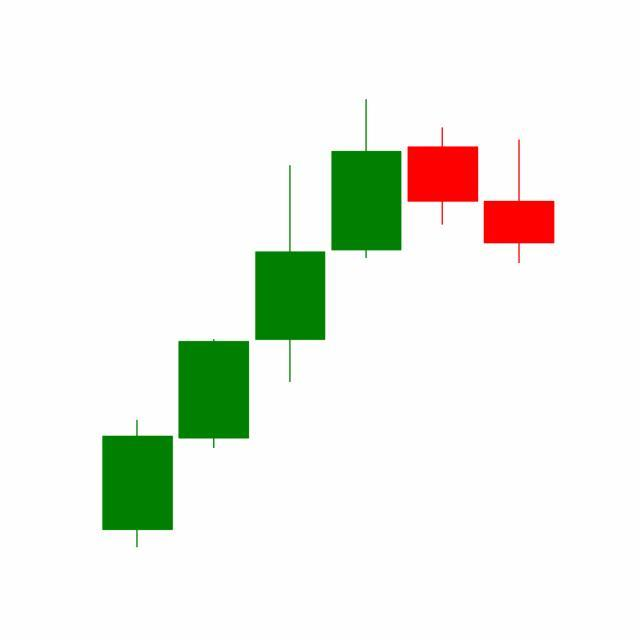Hikkake Pattern: (175, 100, 555, 454)
